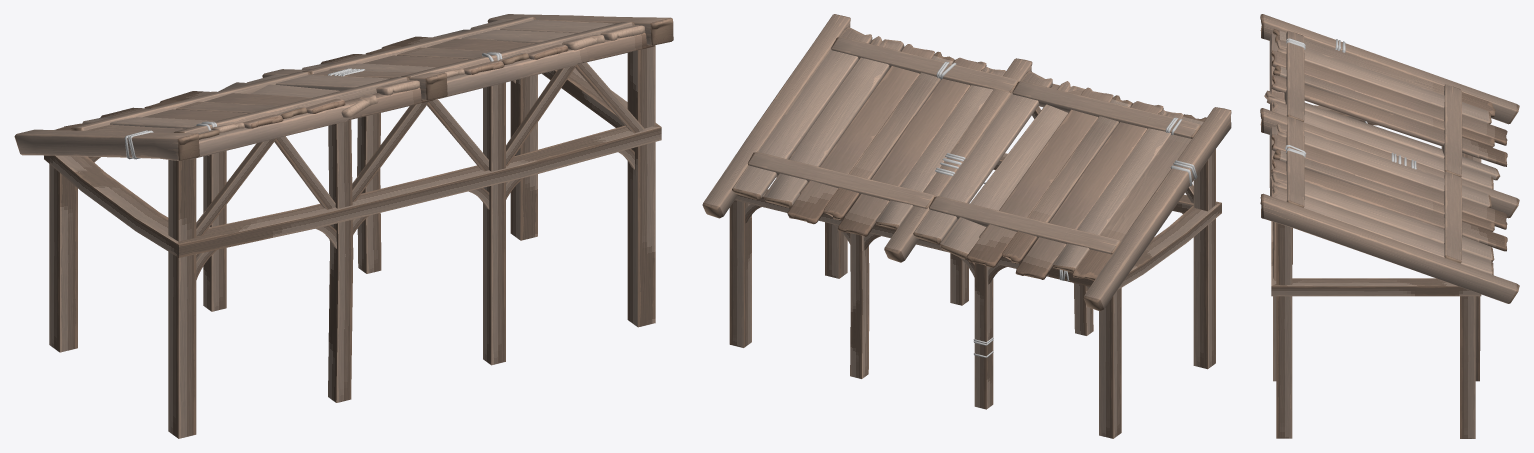
The model's file is SM_Scaffolding_03.fbx.
3 views of the same model, side by side, from view 1: azimuth 30°, elevation 25°; view 2: azimuth 150°, elevation 25°; view 3: azimuth 270°, elevation 25° (orthographic). The views are drawn at different scales.
Visible parts, largest first — view 1: SM_Scaffolding_03_LOD0; view 2: SM_Scaffolding_03_LOD0; view 3: SM_Scaffolding_03_LOD0.
Boxes of the visible parts, x1,y1,x2,y2 form: SM_Scaffolding_03_LOD0: (14, 14, 673, 438); SM_Scaffolding_03_LOD0: (702, 14, 1231, 438); SM_Scaffolding_03_LOD0: (1260, 14, 1519, 438).
Size of the model in its own units: 1131 by 658 by 674.
